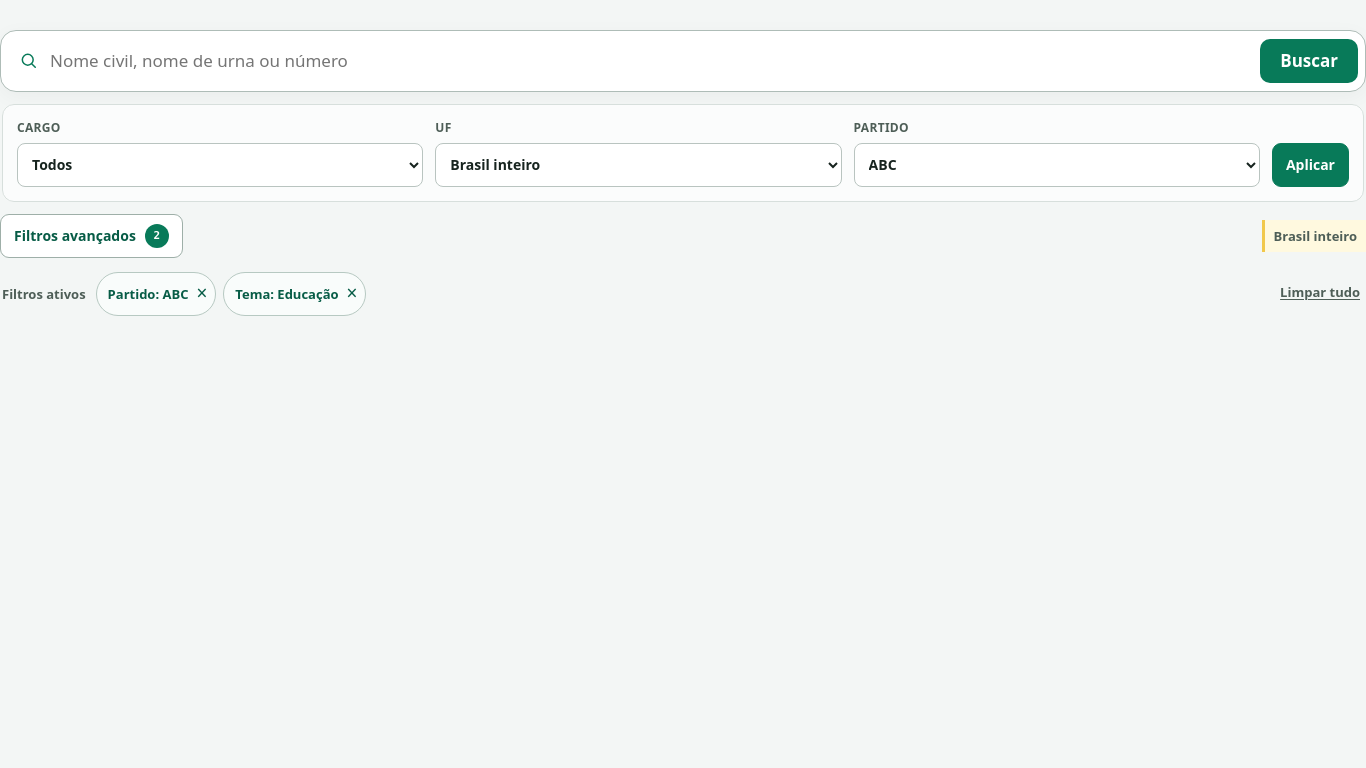
it: candidate catalog › requires login for followed-only and preserves the complete intended return URL
The image size is (1366, 768).
What coordinates should you click on to do the following:
click the button "Filtros avançados 2"
I would click on:
 (91, 236)
Its box is [0,214,183,258].
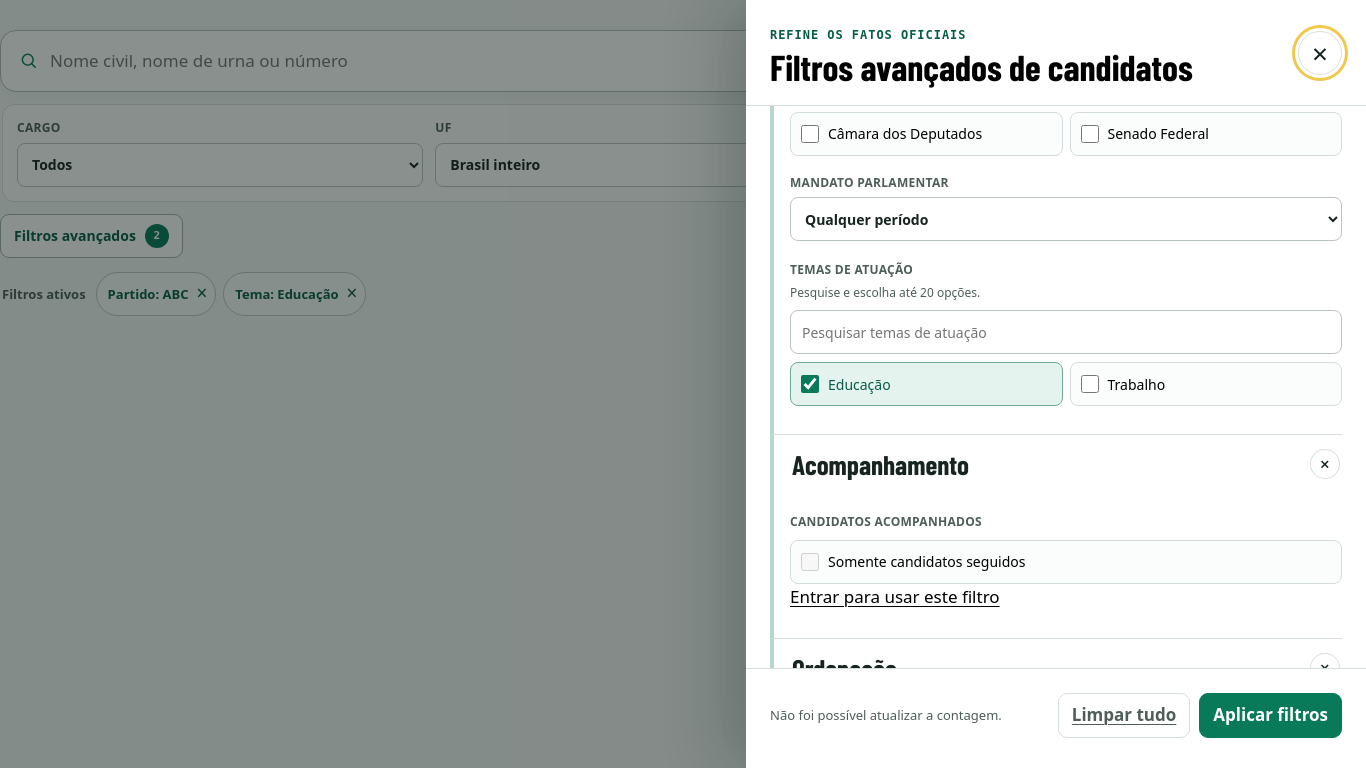
Check: the checkbox labelled "Somente candidatos seguidos" is disabled, box [801,553,819,571]
Check: the text "Educação" is shown, box [828,376,891,393]
